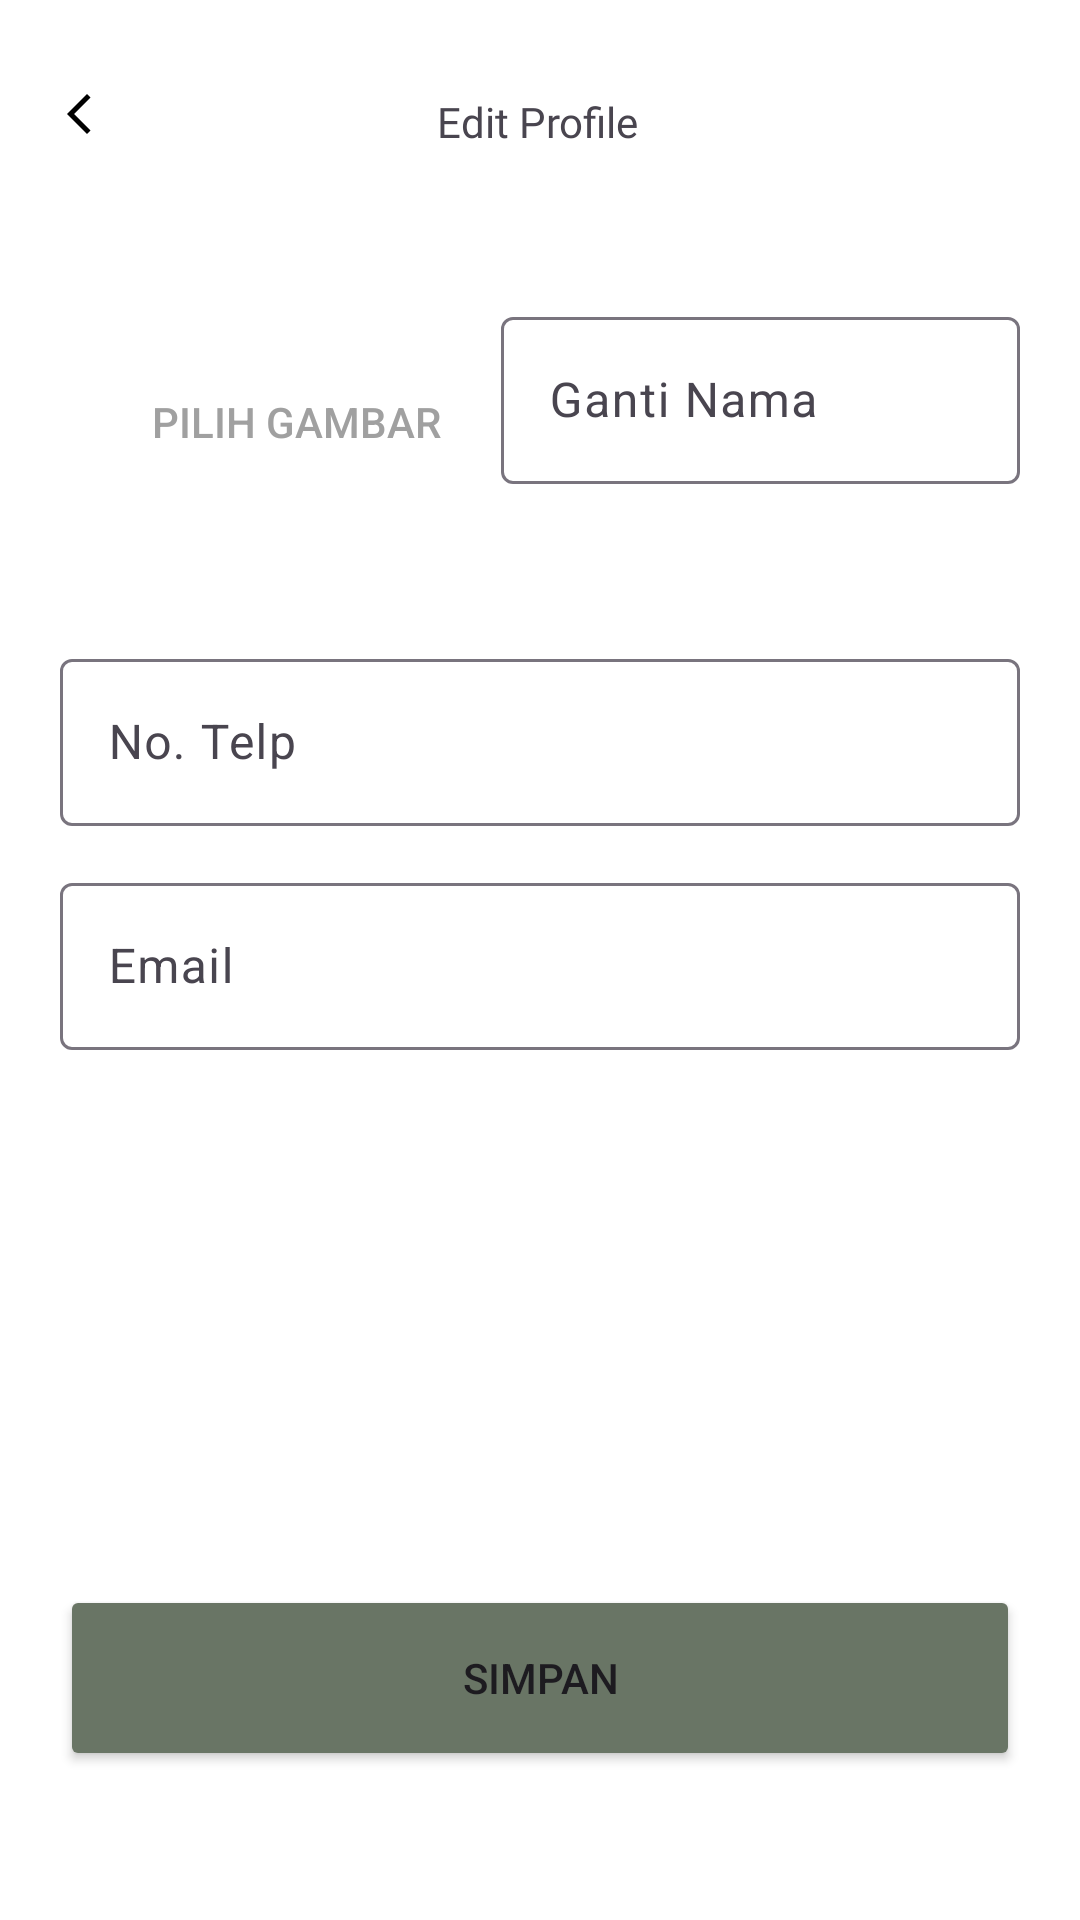

Where to tap for icons on this 1080 × 1920 app screen, as (x,y):
back: (79,114)
